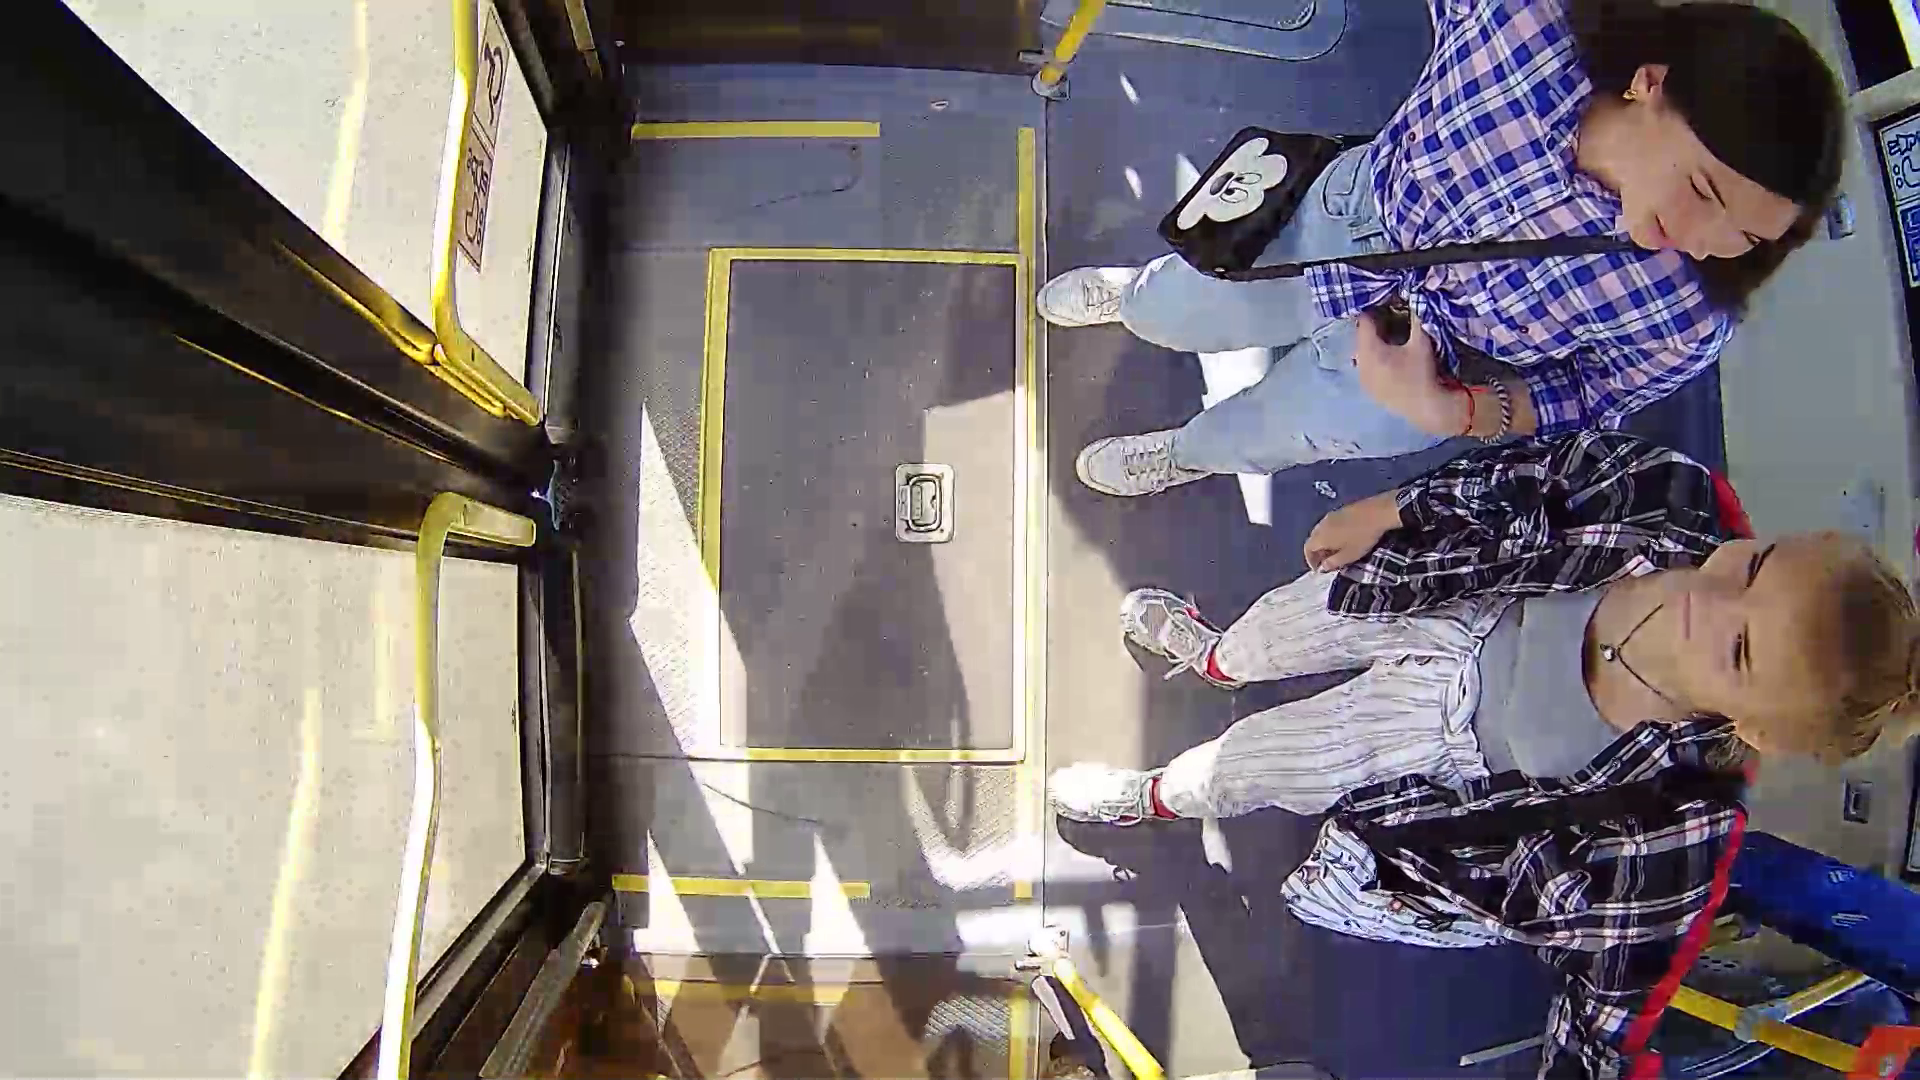person: (1070, 423, 1900, 968), (1064, 13, 1877, 522)
